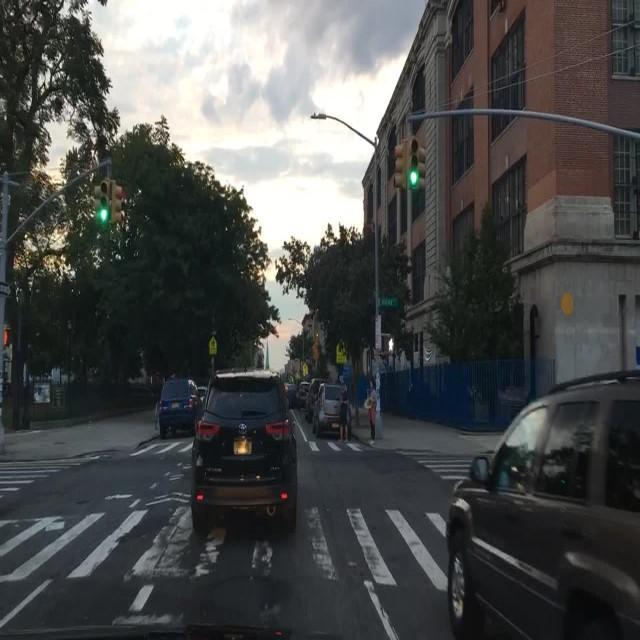normal: (448, 368, 640, 636), (176, 359, 312, 546), (158, 374, 208, 435), (304, 382, 347, 437)
